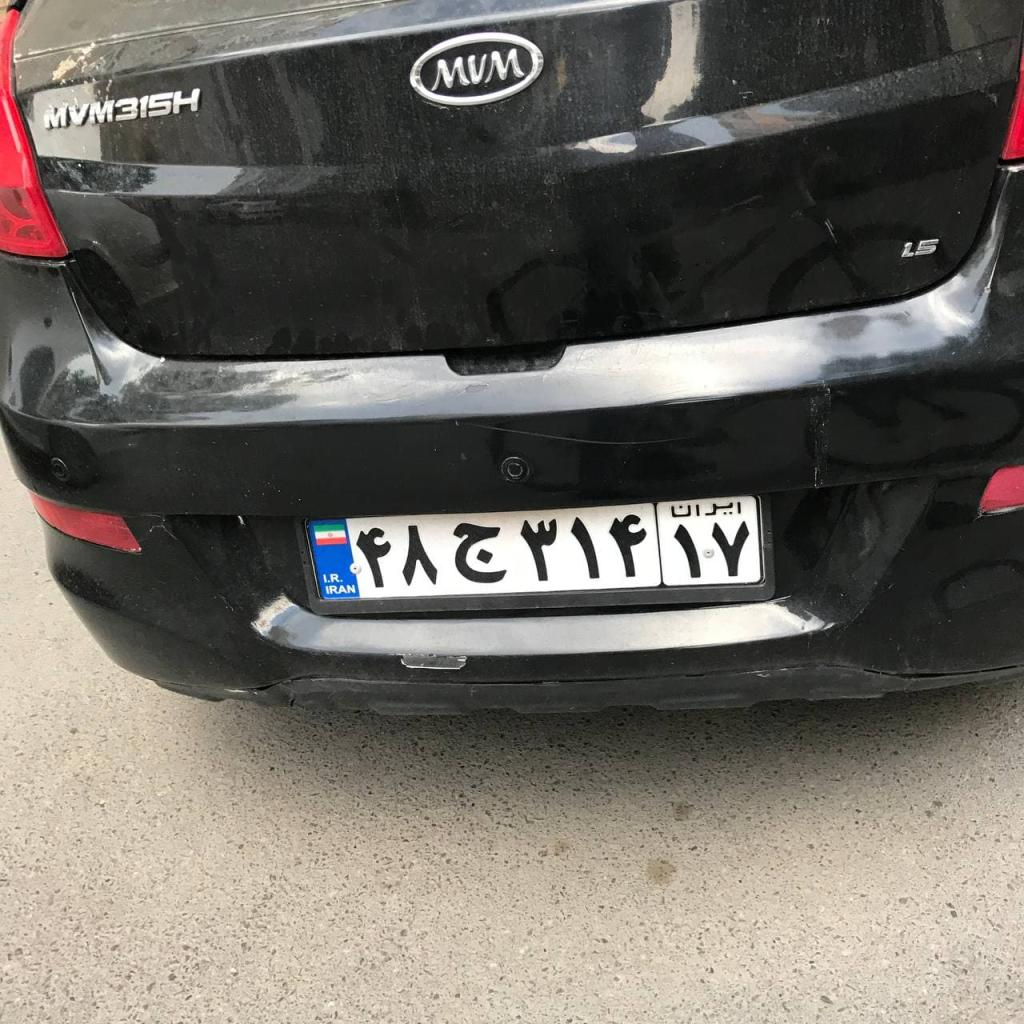Plates: (304, 496, 765, 601)
